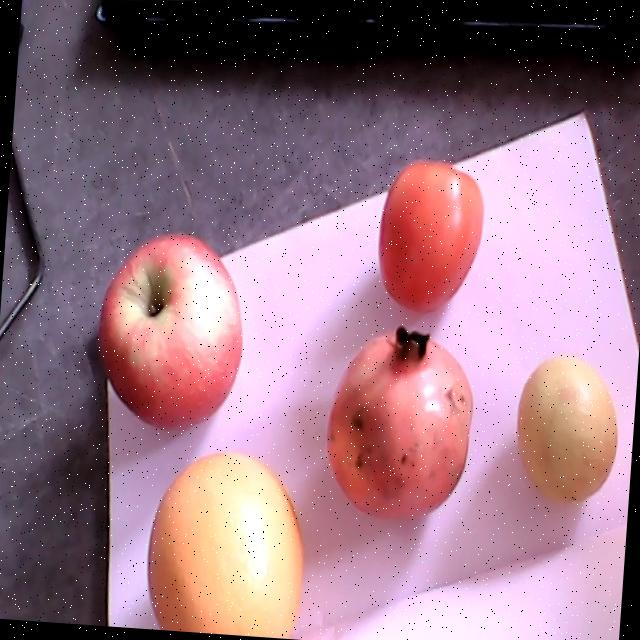apple: (97, 232, 243, 431)
lemon: (517, 356, 617, 503)
orange: (149, 453, 304, 636)
pomegranate: (326, 324, 473, 521)
tomato: (378, 161, 483, 314)
